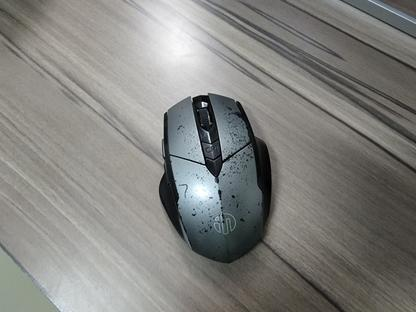mouse: (157, 91, 273, 264)
